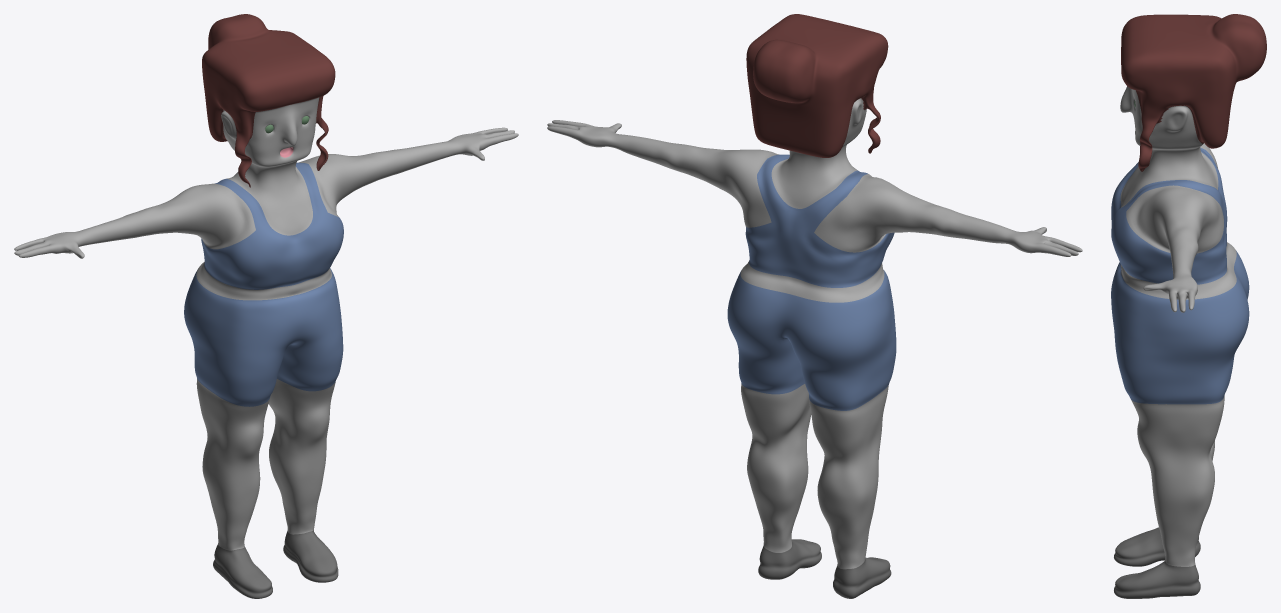
The model's file is Blockchar.fbx.
3 renders of one model, left to right at view 1: azimuth 30°, elevation 25°; view 2: azimuth 150°, elevation 25°; view 3: azimuth 270°, elevation 25°, orthographic. The views are drawn at different scales.
Visible parts, largest first — view 1: char; view 2: char; view 3: char.
Part boxes in pixels (<box>): char: <box>14,14,518,598</box>; char: <box>547,14,1082,598</box>; char: <box>1111,14,1266,598</box>.
Size of the model in its own units: 13.85 by 14.05 by 3.56.
